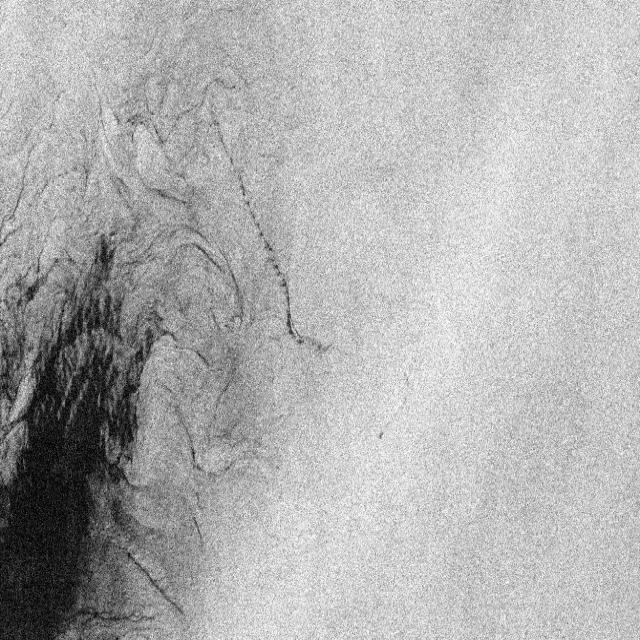look-alike: (2, 237, 175, 640)
oil-spill: (212, 114, 321, 352), (372, 376, 413, 445)
